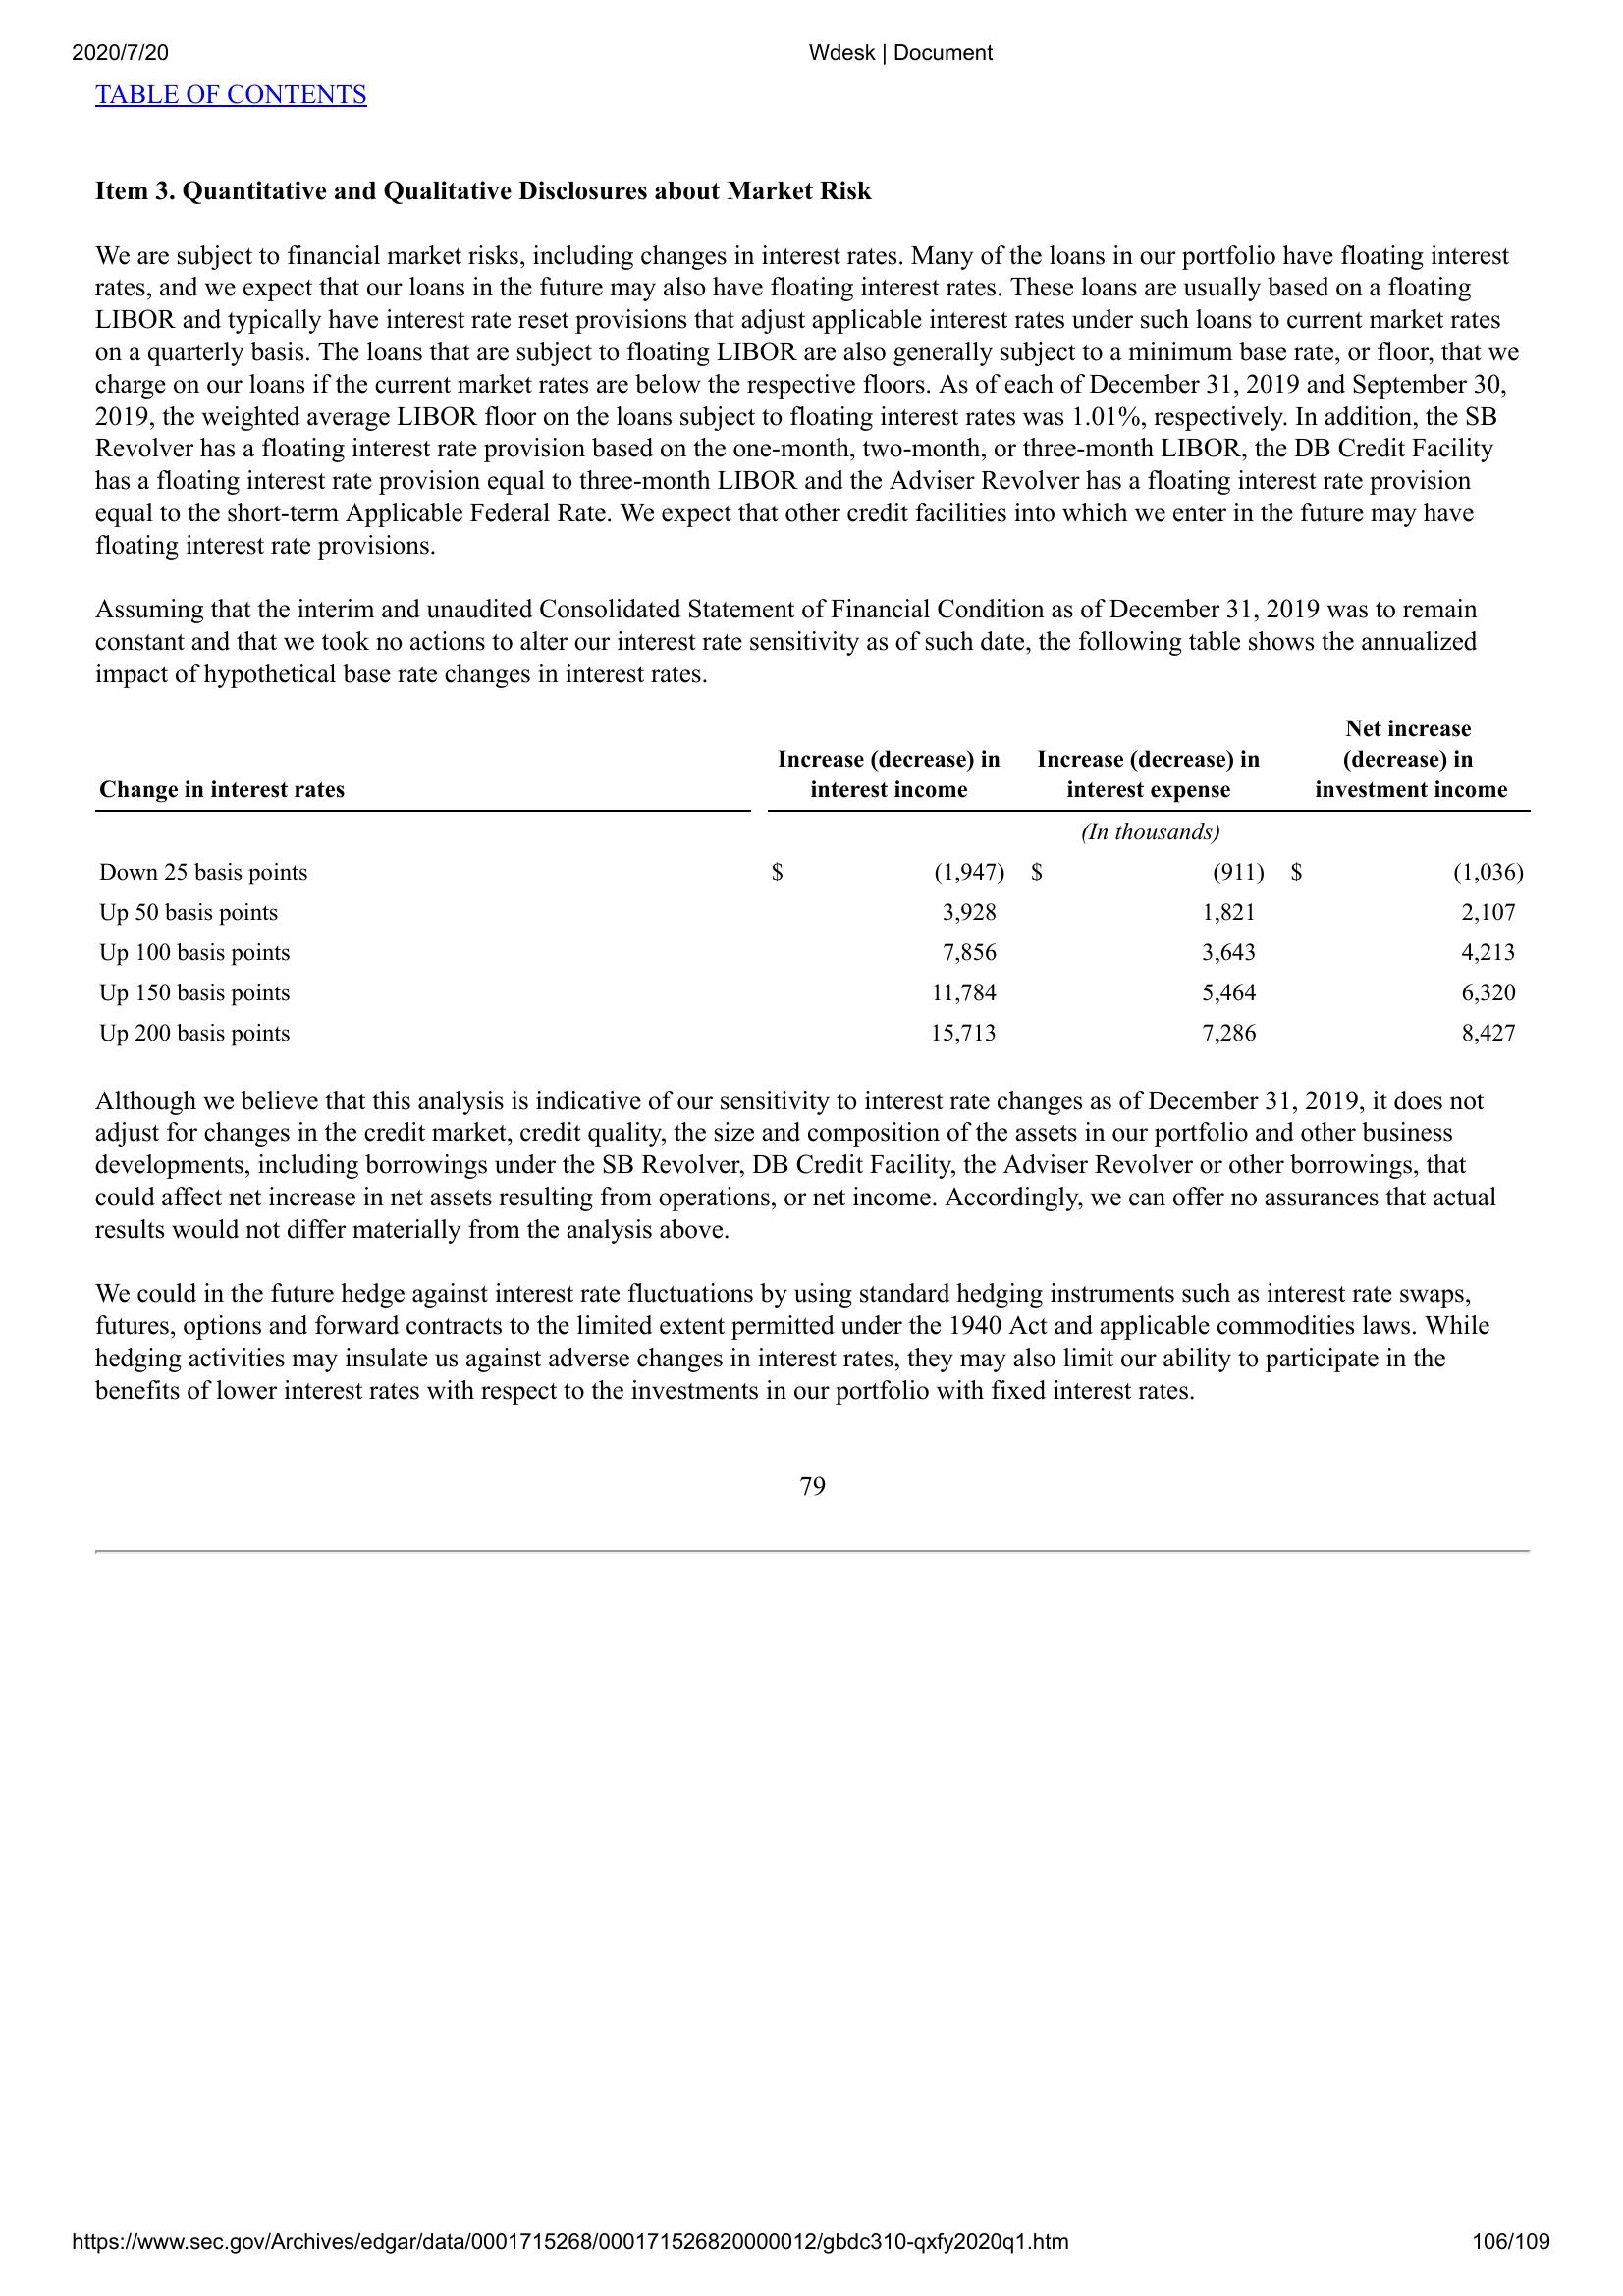table: (84, 720, 1525, 1050)
